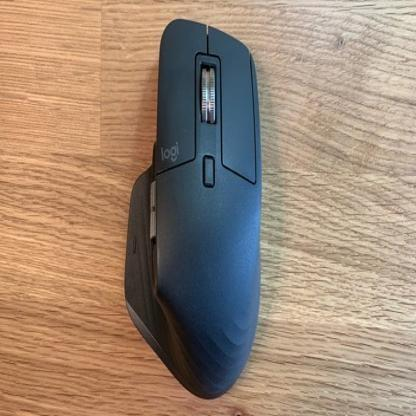not trash: (129, 18, 264, 399)
